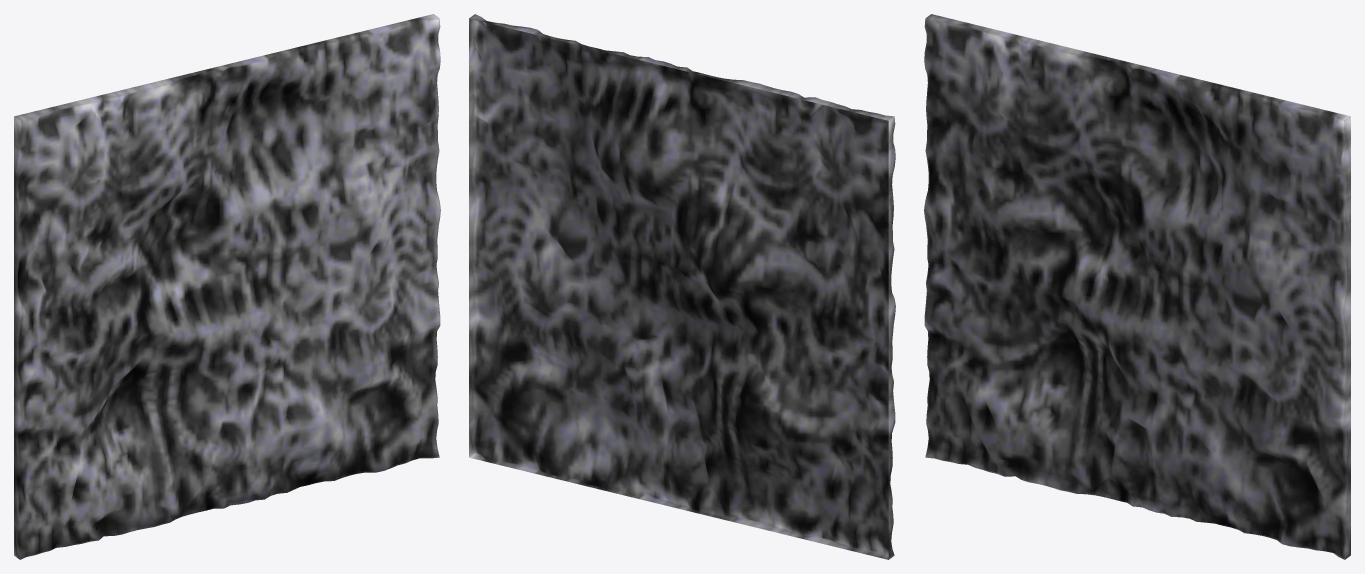
The model's file is bridg1_1_flipx.fbx.
The picture shows the model from 3 angles, left to right: view 1: azimuth 30°, elevation 25°; view 2: azimuth 150°, elevation 25°; view 3: azimuth 330°, elevation 25°; orthographic projection.
Parts seen in each view (by area): view 1: bridg1_1_mesh_flipx; view 2: bridg1_1_mesh_flipx; view 3: bridg1_1_mesh_flipx.
Boxes of the visible parts, x1,y1,x2,y2 form: bridg1_1_mesh_flipx: (14, 14, 440, 559); bridg1_1_mesh_flipx: (469, 14, 895, 559); bridg1_1_mesh_flipx: (924, 14, 1350, 559).
Bounding box in the file's own units: 256 × 256 × 28.75.
